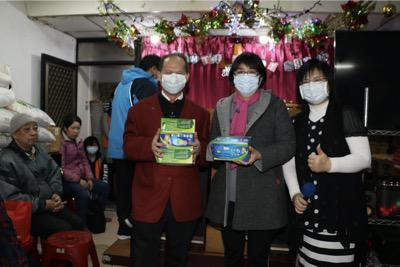with_mask: (298, 76, 328, 105), (233, 68, 260, 95), (162, 69, 185, 94), (85, 144, 96, 156)
without_mask: (15, 126, 37, 147), (66, 125, 80, 140)
